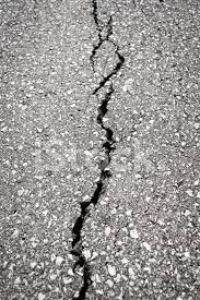crack: (88, 0, 127, 193), (68, 192, 105, 300)
